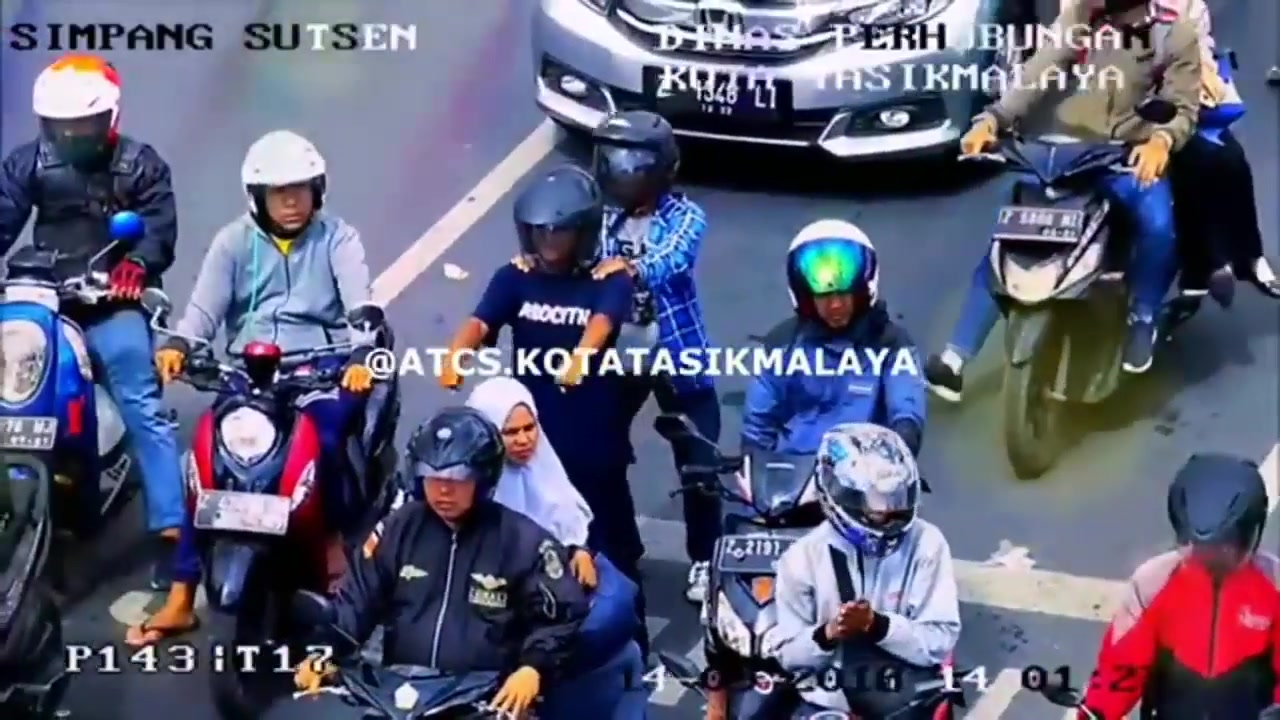person with motorcycle: (9, 53, 179, 561), (195, 126, 352, 632)
